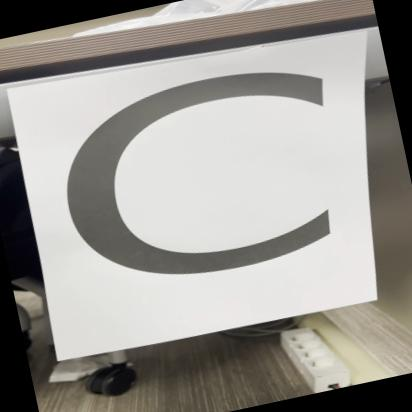seat: (6, 16, 386, 374)
